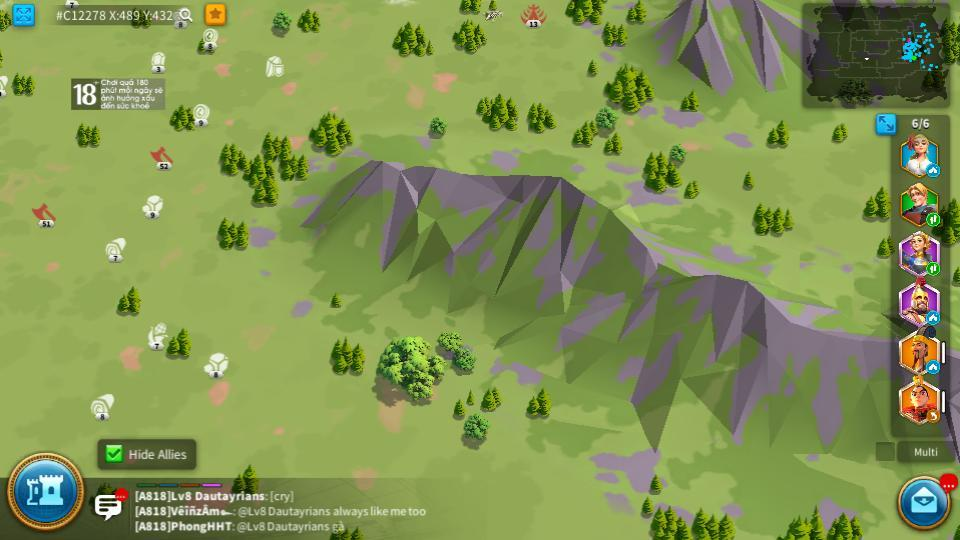gem-z-out: (147, 51, 167, 72)
march_idle: (927, 312, 940, 324), (927, 362, 940, 373), (927, 164, 940, 175)
march_marching: (925, 263, 938, 275), (927, 216, 940, 227)
march_returning: (926, 411, 940, 422)
